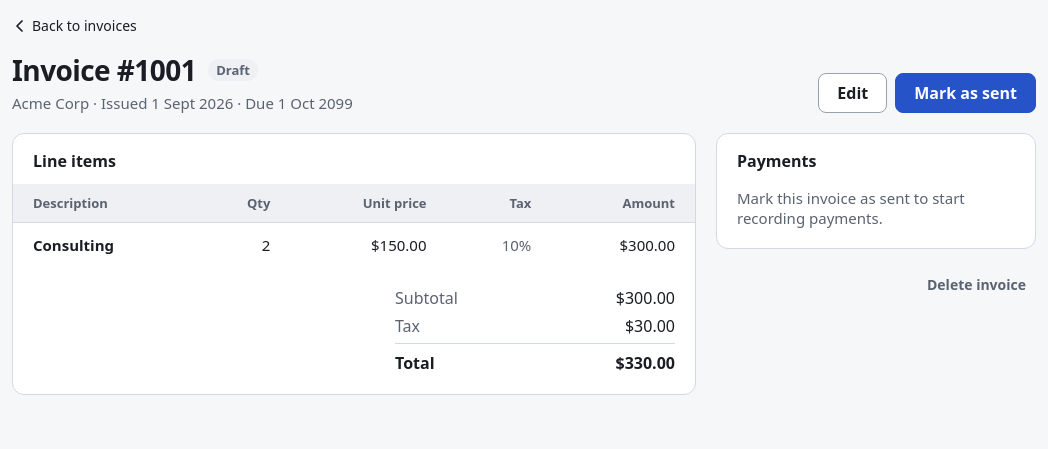
Test case: InvoiceDetailPage › marks a draft as sent, sending the version it was loaded with
Click the button "Mark as sent" at (966, 93), box [895,73,1036,113]
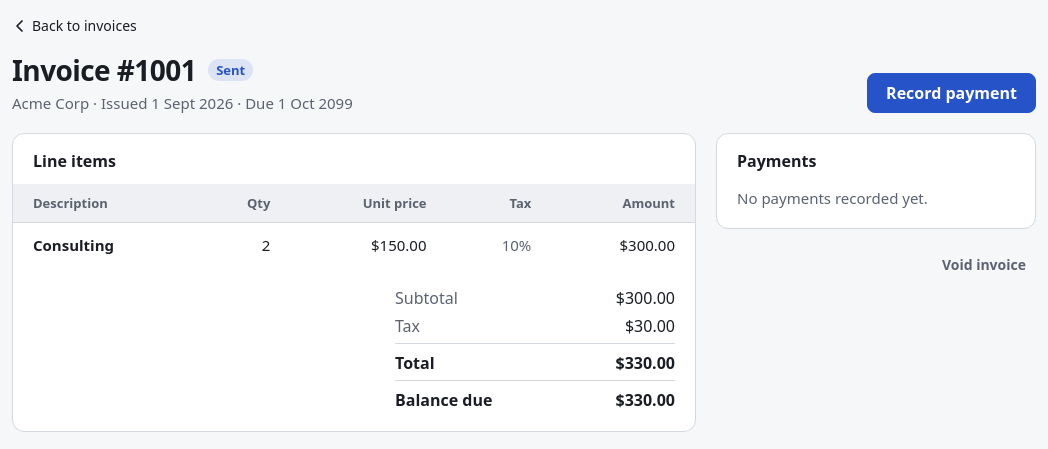
Result: the button "Record payment" is shown at [867,73,1036,113]
